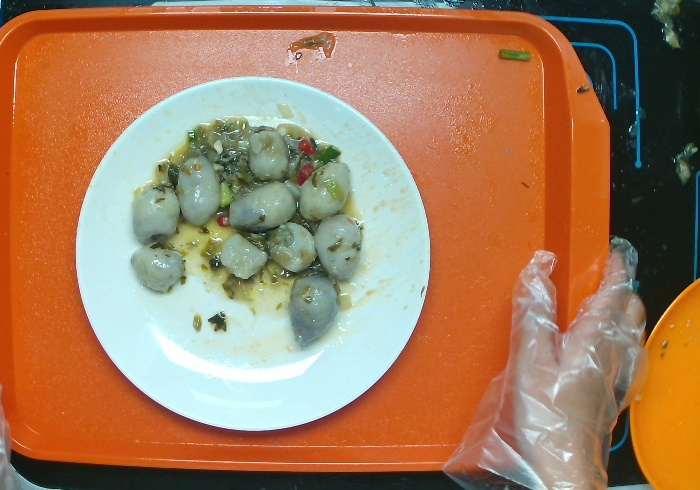HZYJPL-Bai_Se_Yuan_Pan: (75, 75, 436, 431)
